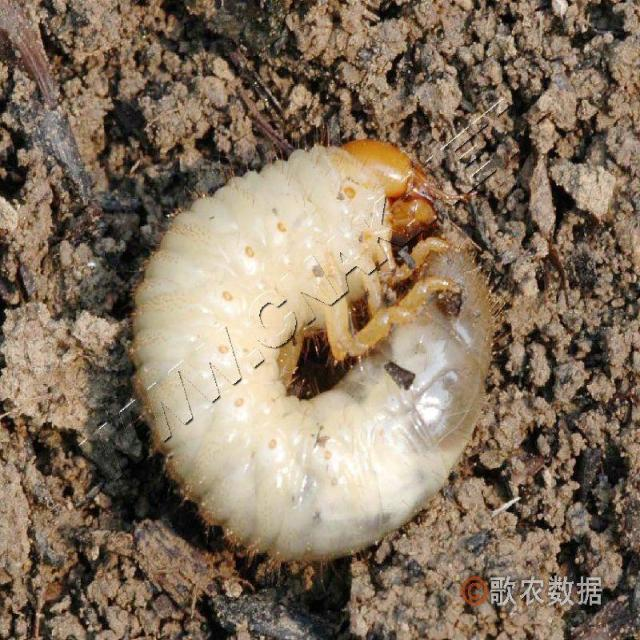grub: (121, 130, 516, 567)
